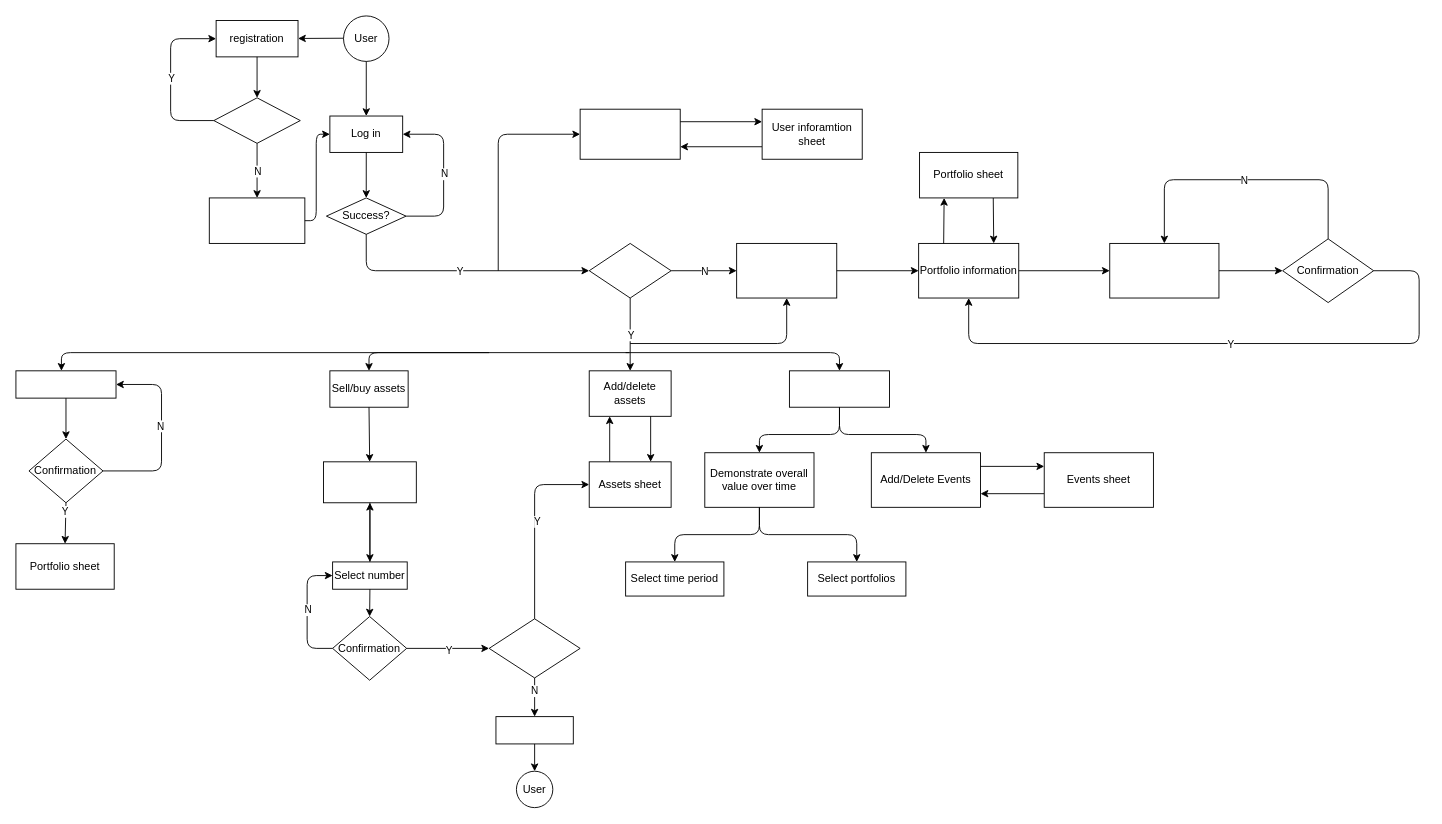
Some shapes in this 1442 by 824 pixel diagram are drawn without their labels. The centre of each missing label's shape, as x and y in pixels:
Adequacy of balance?: the point at 534,648
Analysis portfolios: the point at 839,388
Change self information: the point at 629,133
Change/delete portfolio information: the point at 1164,270
Clone portfolio: the point at 65,384
Create new portfolio: the point at 786,270
Has portfolio?: the point at 629,270
heavy name?: the point at 256,120
Remainder: the point at 534,730
Select assect: the point at 369,482
User information sheet: the point at 256,220
